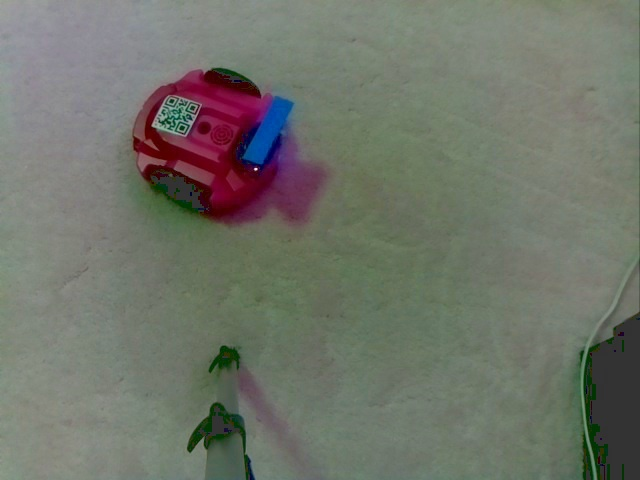board: (237, 94, 297, 180)
chassis: (130, 62, 292, 215)
